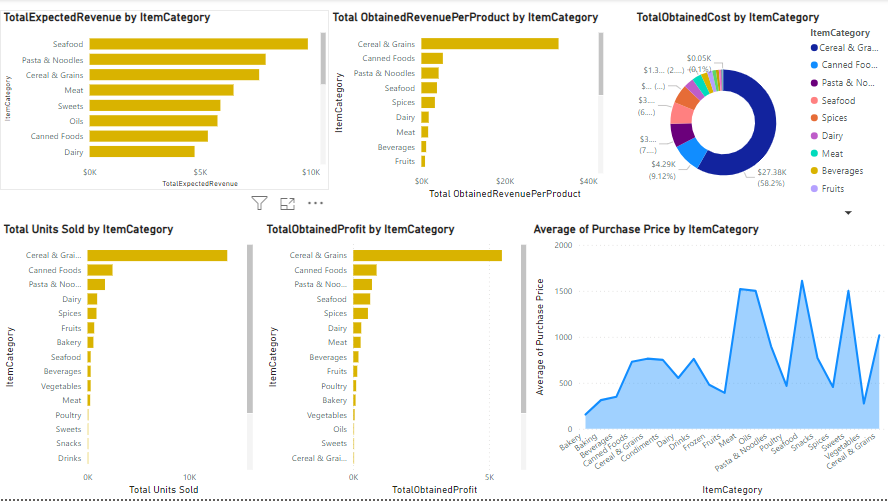

What the dashboard file says about the page in this screenshot:
{"tool":"powerbi","page":{"name":"Page 4","canvas":[1280,720],"ordinal":3},"visuals":[{"type":"barChart","fields":{"Category":["CleanData.ItemCategory"],"Y":["CleanData.TotalExpectedRevenue"]},"box":[0,15.4,474.4,260.3],"z":0},{"type":"barChart","fields":{"Y":["CleanData.Total ObtainedRevenuePerProduct"],"Category":["CleanData.ItemCategory"]},"box":[474.4,15.4,400.5,277.3],"z":1000},{"type":"donutChart","fields":{"Category":["CleanData.ItemCategory","CleanData.ItemName"],"Y":["CleanData.TotalObtainedCost"]},"box":[911.9,15.4,368.1,305],"z":2000},{"type":"barChart","fields":{"Category":["CleanData.ItemCategory"],"Y":["CleanData.Total Units Sold"]},"box":[0,321.1,368.6,398.9],"z":3000},{"type":"barChart","fields":{"Category":["CleanData.ItemCategory"],"Y":["CleanData.TotalObtainedProfit"]},"box":[378.7,321.1,384.5,398.9],"z":4000},{"type":"stackedAreaChart","fields":{"Category":["CleanData.ItemCategory","CleanData.ItemName"],"Y":["Avg(CleanData.Purchase Price)"]},"box":[763.2,321.1,517,398.9],"z":5000}]}

Visuals, with their boxes in screenshot pixels (x1, y1, x2, y2), scaled from the page's 1280x720 canvas onto the 888x501 screenshot:
barChart - CleanData.ItemCategory x CleanData.TotalExpectedRevenue: [left=0, top=11, right=329, bottom=192]
barChart - CleanData.Total ObtainedRevenuePerProduct x CleanData.ItemCategory: [left=329, top=11, right=607, bottom=204]
donutChart - CleanData.ItemCategory x CleanData.ItemName: [left=633, top=11, right=887, bottom=223]
barChart - CleanData.ItemCategory x CleanData.Total Units Sold: [left=0, top=223, right=256, bottom=500]
barChart - CleanData.ItemCategory x CleanData.TotalObtainedProfit: [left=263, top=223, right=529, bottom=500]
stackedAreaChart - CleanData.ItemCategory x CleanData.ItemName: [left=529, top=223, right=887, bottom=500]
